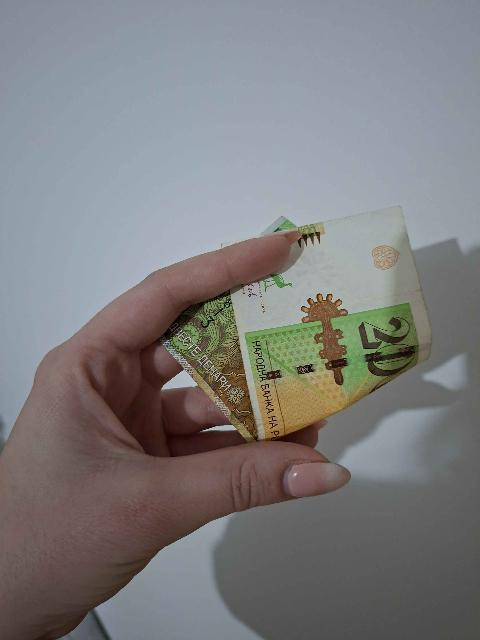200_note: (167, 211, 433, 444)
